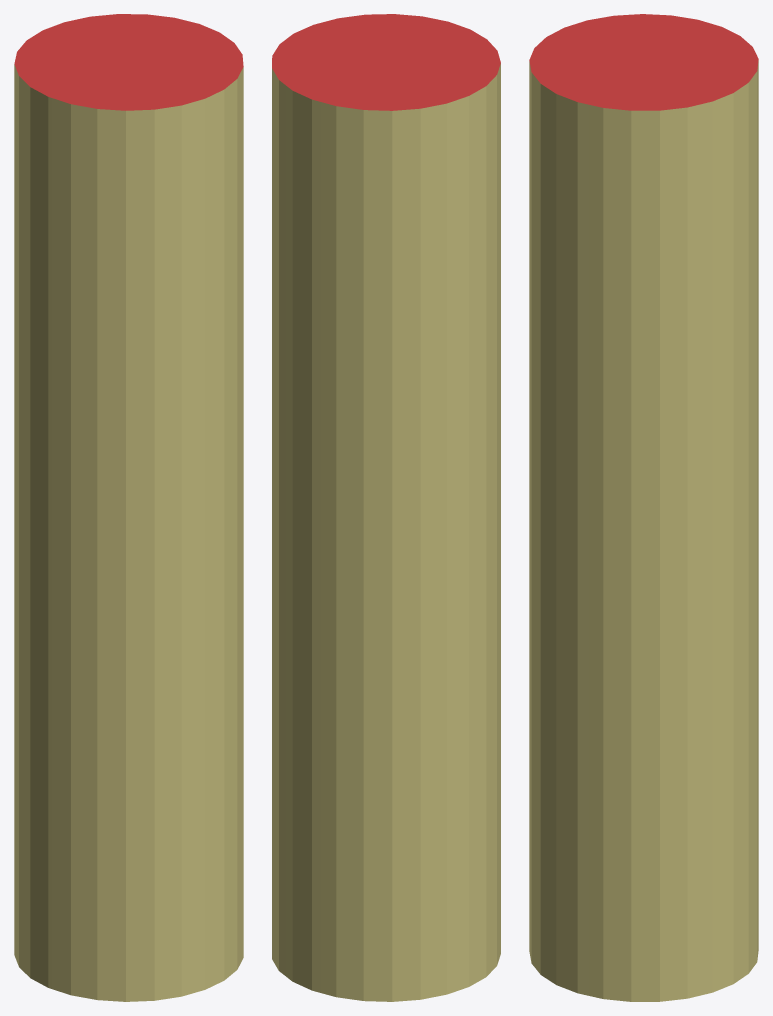
3 views of the same model, side by side, from view 1: azimuth 30°, elevation 25°; view 2: azimuth 150°, elevation 25°; view 3: azimuth 270°, elevation 25° (orthographic).
Size of the model in its own units: 2.95 by 2.96 by 12.67.
